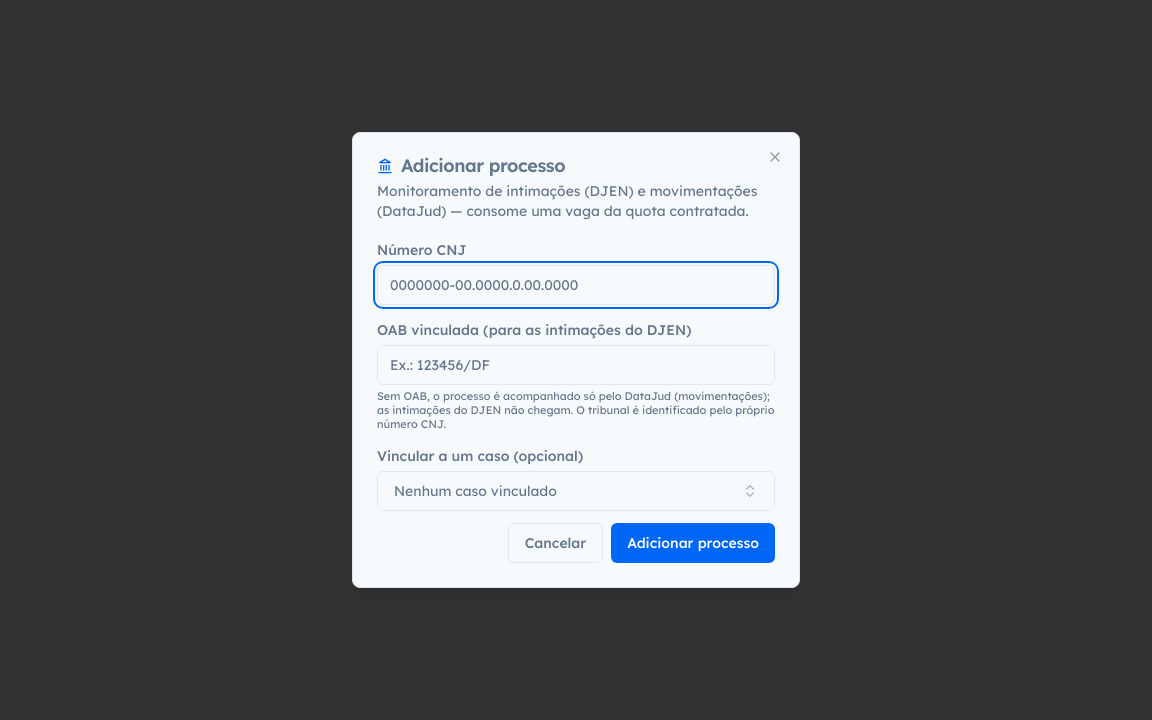
Test: AddMonitoredProcessDialog: a OAB entra e o tribunal sai › OAB com letra vira erro sobre o que foi digitado, e nada é enviado
The width and height of the screenshot is (1152, 720).
Type "0001234-37.2026.8.07.0001" into the field labelled "Número CNJ" at (576, 285), box [377,265,775,305]
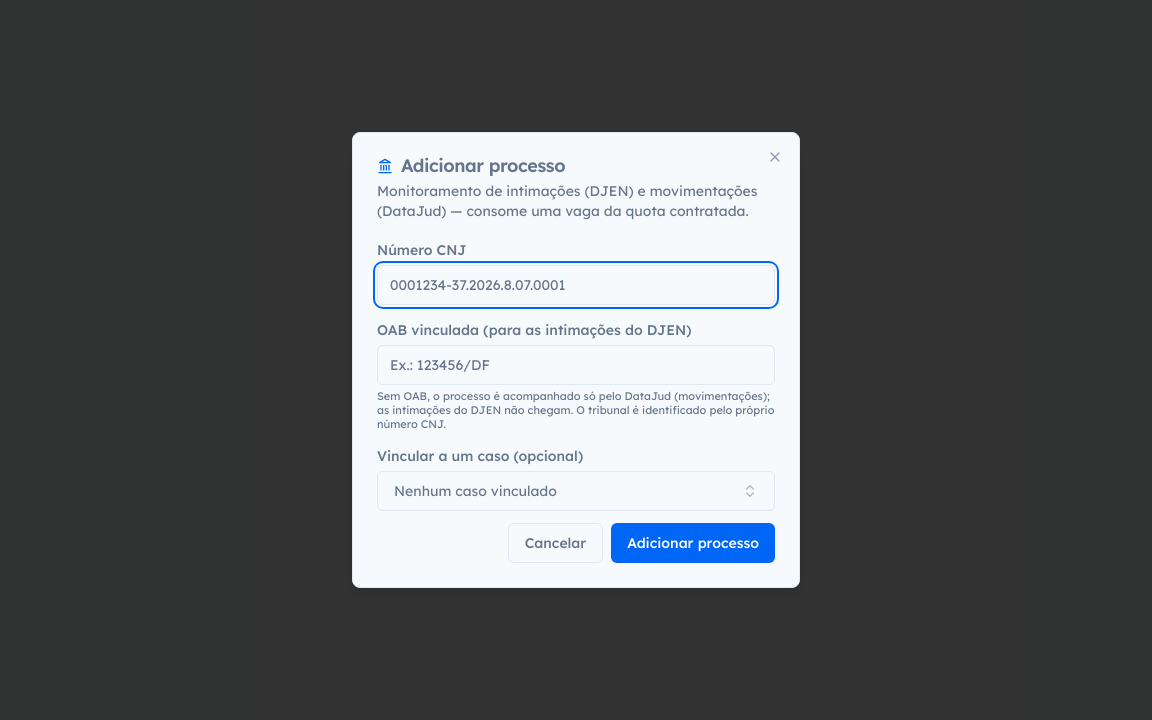
Type "68812A/DF" into the field labelled "OAB vinculada (para as intimações do DJEN)" at (576, 365), box [377,345,775,385]
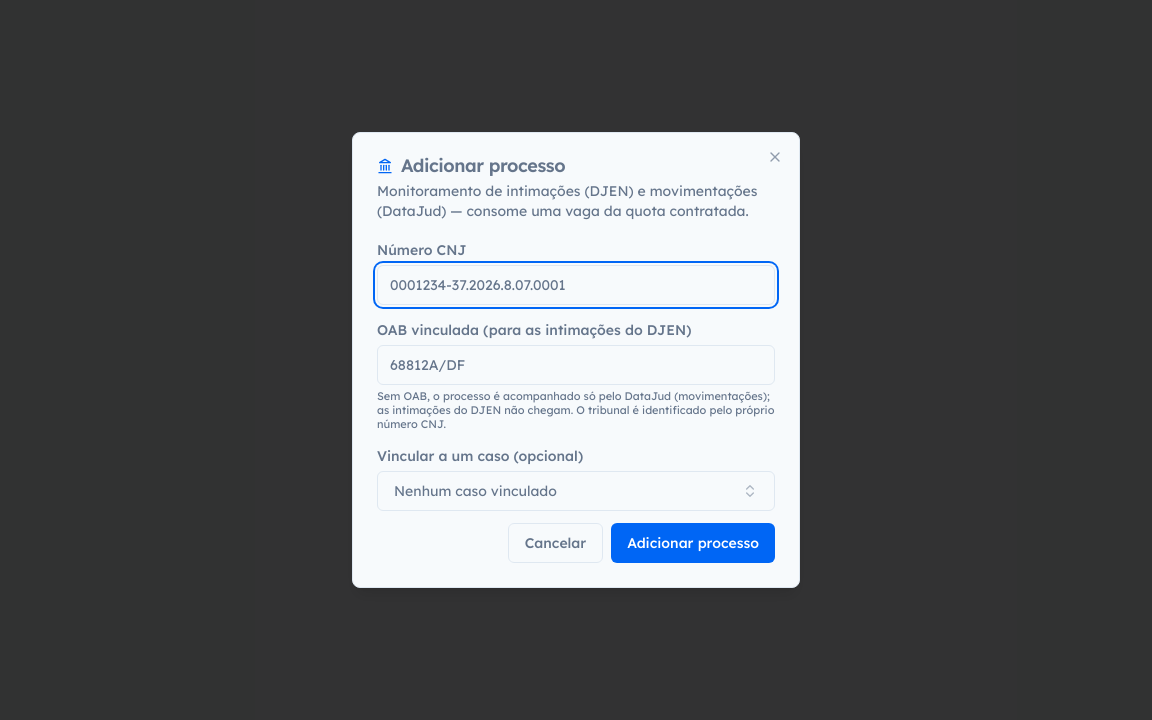
Click the button "Adicionar processo" at (693, 543), box [611,523,775,563]
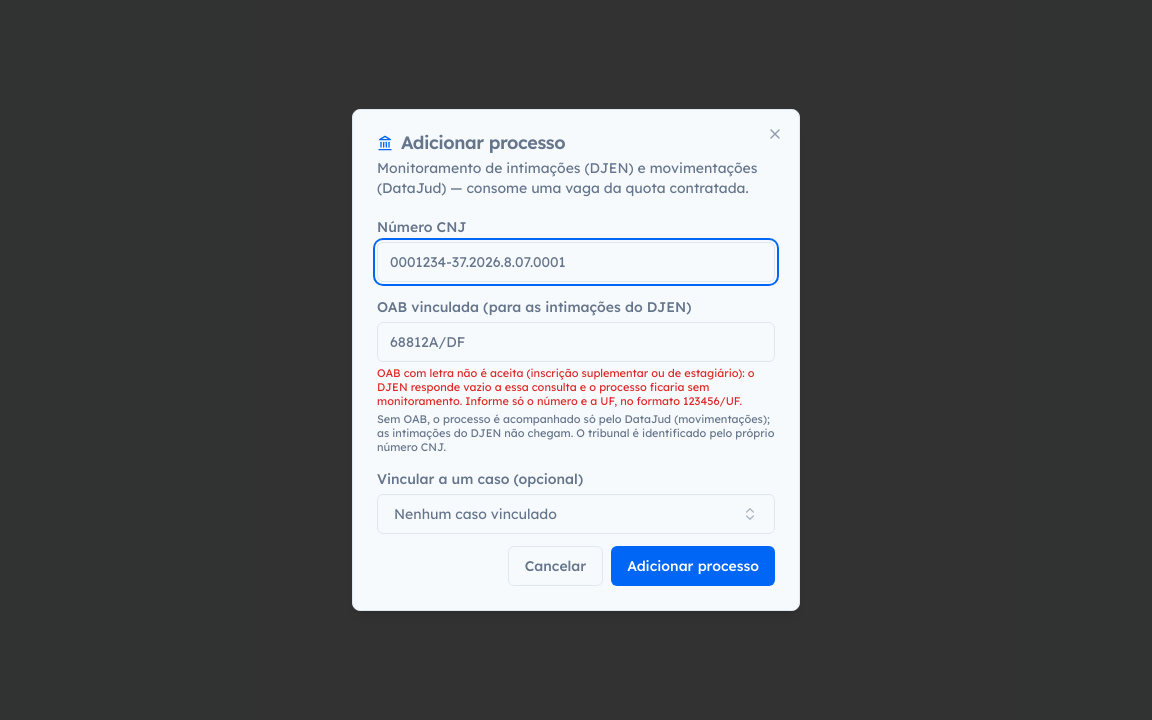
Expected: the text "OAB com letra não é aceita" is shown, [377,366,755,408]
